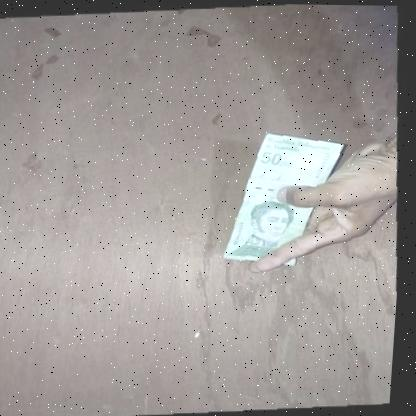fifty-front-vef: (221, 129, 352, 269)
